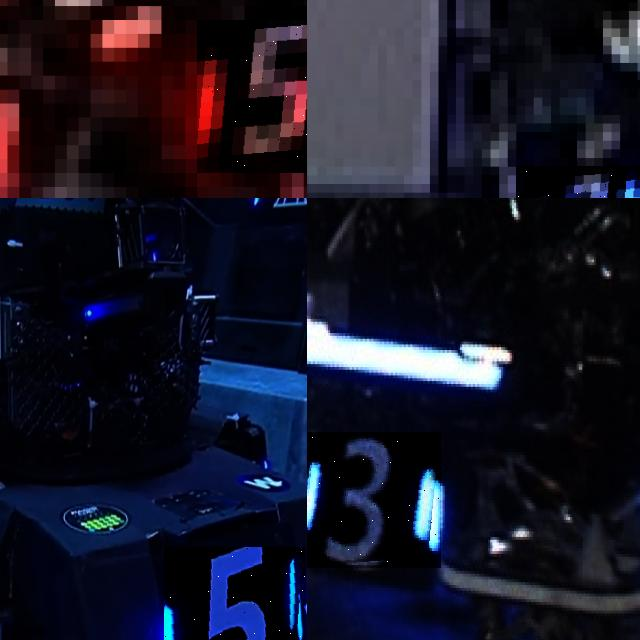B2: (516, 166, 640, 198)
B3: (307, 432, 440, 568)
B5: (164, 546, 305, 640)
R5: (197, 20, 307, 173)
